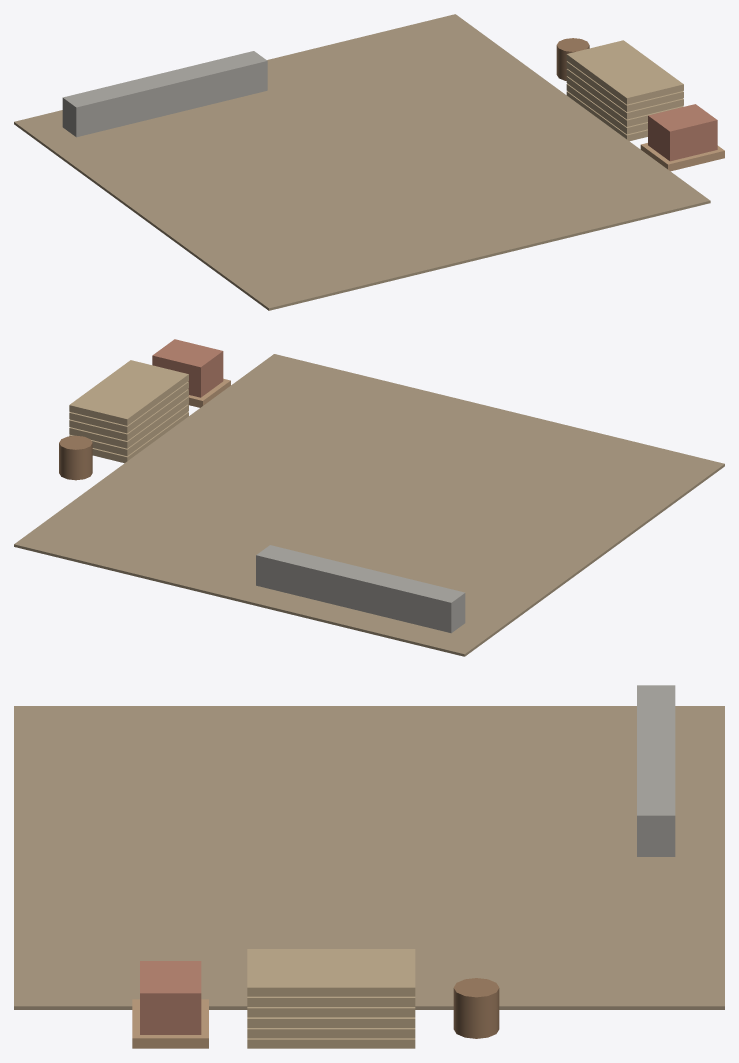
File: goat_pen_site_1.glb
3 renders of one model, top to bottom at view 1: azimuth 30°, elevation 25°; view 2: azimuth 150°, elevation 25°; view 3: azimuth 270°, elevation 25°, orthographic. The views are drawn at different scales.
Parts seen in each view (by area): view 1: body; view 2: body; view 3: body.
Boxes of the visible parts, x1,y1,x2,y2 form: body: [14, 14, 724, 310]; body: [14, 339, 724, 656]; body: [14, 685, 724, 1048].
Size of the model in its own units: 2.1 by 0.176 by 1.86.
